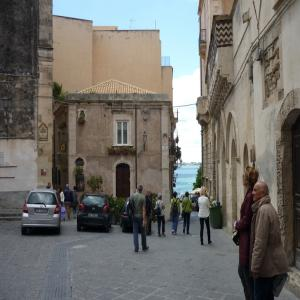Vehicle-registration-plate: (38, 209, 49, 215), (88, 215, 99, 220)
